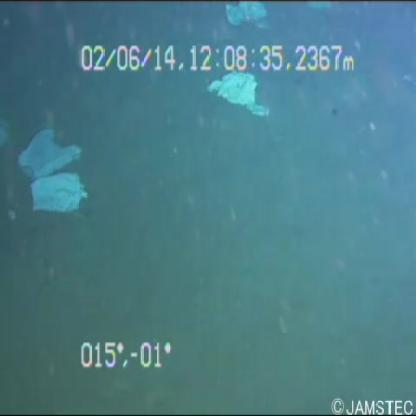Rác: (14, 101, 96, 232), (190, 58, 277, 124), (216, 1, 271, 35)
